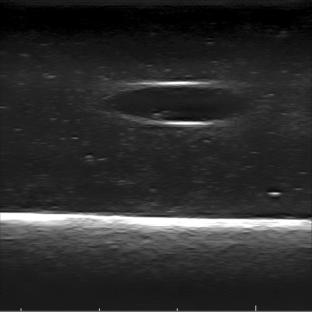vessel: (110, 81, 246, 128)
